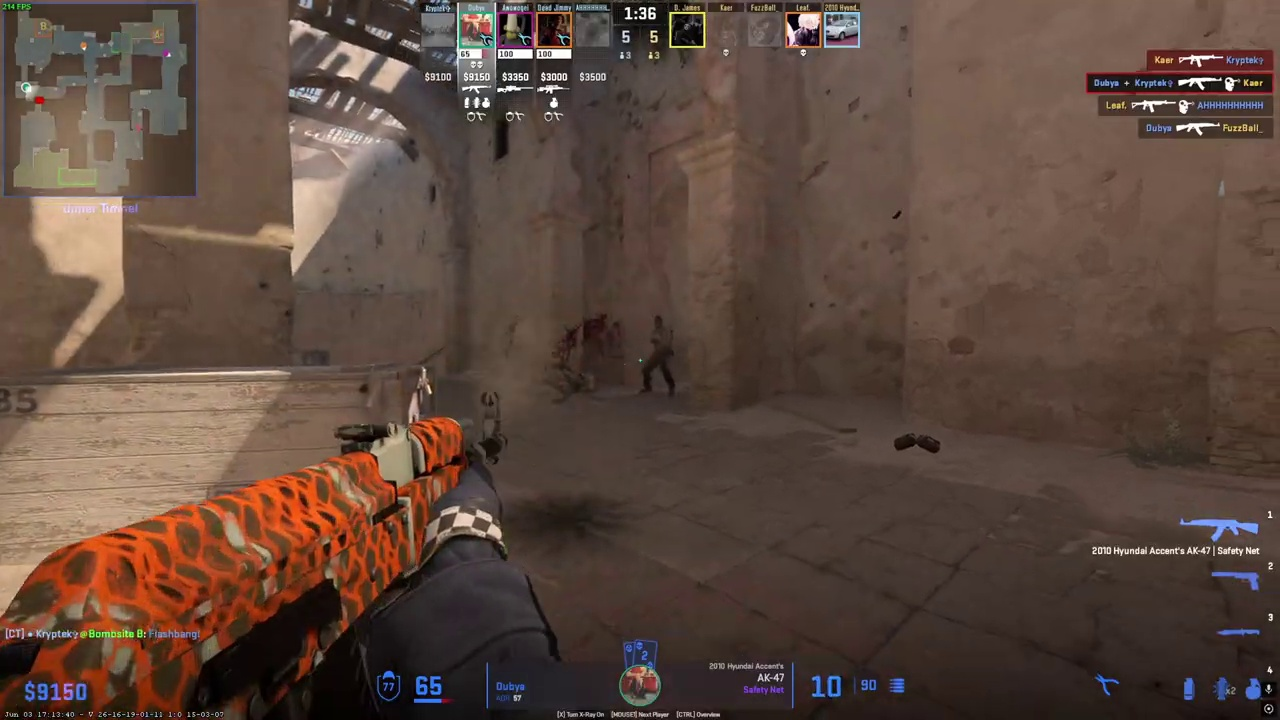Terrorist: (640, 315, 676, 397)
